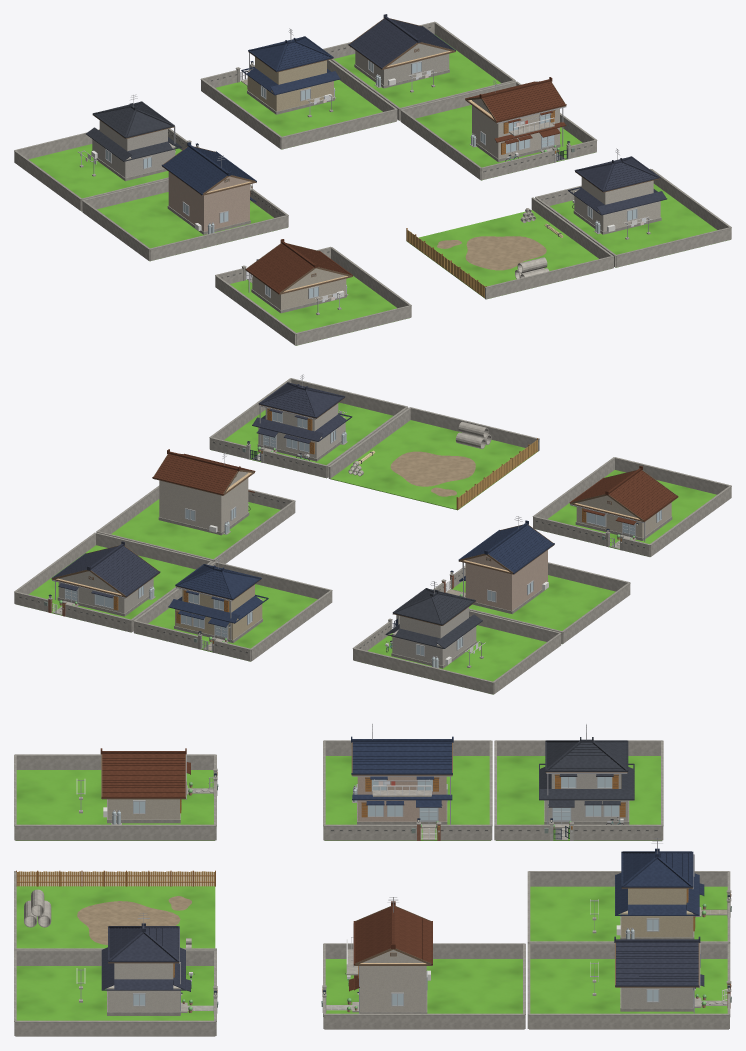
Rendered from neighbours.glb.
3 views of the same model, one above another, from view 1: azimuth 30°, elevation 25°; view 2: azimuth 150°, elevation 25°; view 3: azimuth 270°, elevation 25° (orthographic). The views are drawn at different scales.
Visible parts, largest first — view 1: yard_east, wall_east_x-12.2, coping_east_x-12.2, skirt_east_front, porch_east-back, skirt_back_front, gf_west, skirt_west-back_front, bare_0, gf_back, gf_south-east, nameplate_ink_east (+8 smaller); view 2: yard_east, wall_east_x-12.2, coping_east_x-12.2, porch_east-back, skirt_back_front, skirt_east_front, gf_east, gf_west, skirt_west-back_front, bare_0, door_east_glass, nameplate_ink_east (+9 smaller); view 3: yard_east, wall_east_x-12.2, coping_east_x-12.2, skirt_back_front, porch_east-back, skirt_east_front, skirt_west-back_front, gf_east, board_-x_0, bare_0, door_east_glass, gf_south-east (+12 smaller).
Boxes of the visible parts, left/top/right/bottom form: yard_east: left=29, top=34, right=729, bottom=345; wall_east_x-12.2: left=14, top=23, right=731, bottom=345; coping_east_x-12.2: left=14, top=21, right=731, bottom=334; skirt_east_front: left=245, top=77, right=566, bottom=293; porch_east-back: left=348, top=14, right=667, bottom=215; skirt_back_front: left=161, top=36, right=340, bottom=202; gf_west: left=168, top=172, right=249, bottom=231; skirt_west-back_front: left=85, top=101, right=181, bottom=161; bare_0: left=437, top=236, right=546, bottom=270; gf_back: left=247, top=57, right=333, bottom=111; gf_south-east: left=574, top=177, right=660, bottom=231; nameplate_ink_east: left=93, top=18, right=659, bottom=294; yard_east: left=24, top=402, right=716, bottom=694; wall_east_x-12.2: left=14, top=379, right=731, bottom=694; coping_east_x-12.2: left=14, top=378, right=731, bottom=683; porch_east-back: left=51, top=382, right=352, bottom=598; skirt_back_front: left=168, top=520, right=554, bottom=627; skirt_east_front: left=152, top=449, right=678, bottom=525; gf_east: left=159, top=471, right=248, bottom=532; gf_west: left=465, top=550, right=547, bottom=610; skirt_west-back_front: left=385, top=588, right=482, bottom=648; bare_0: left=390, top=451, right=475, bottom=496; door_east_glass: left=65, top=411, right=661, bottom=655; nameplate_ink_east: left=51, top=398, right=678, bottom=642; yard_east: left=15, top=756, right=727, bottom=1020; wall_east_x-12.2: left=14, top=742, right=729, bottom=1036; coping_east_x-12.2: left=14, top=740, right=731, bottom=1022; skirt_back_front: left=351, top=736, right=704, bottom=915; porch_east-back: left=101, top=923, right=704, bottom=991; skirt_east_front: left=100, top=748, right=432, bottom=991; skirt_west-back_front: left=539, top=737, right=634, bottom=807; gf_east: left=360, top=949, right=426, bottom=1011; board_-x_0: left=17, top=871, right=214, bottom=886; bare_0: left=77, top=896, right=191, bottom=944; door_east_glass: left=133, top=777, right=658, bottom=1005; gf_south-east: left=107, top=963, right=179, bottom=1011.
Size of the model in its own units: 59.95 by 8.7 by 64.59.
Materials: 47 (23 with a texture image).
